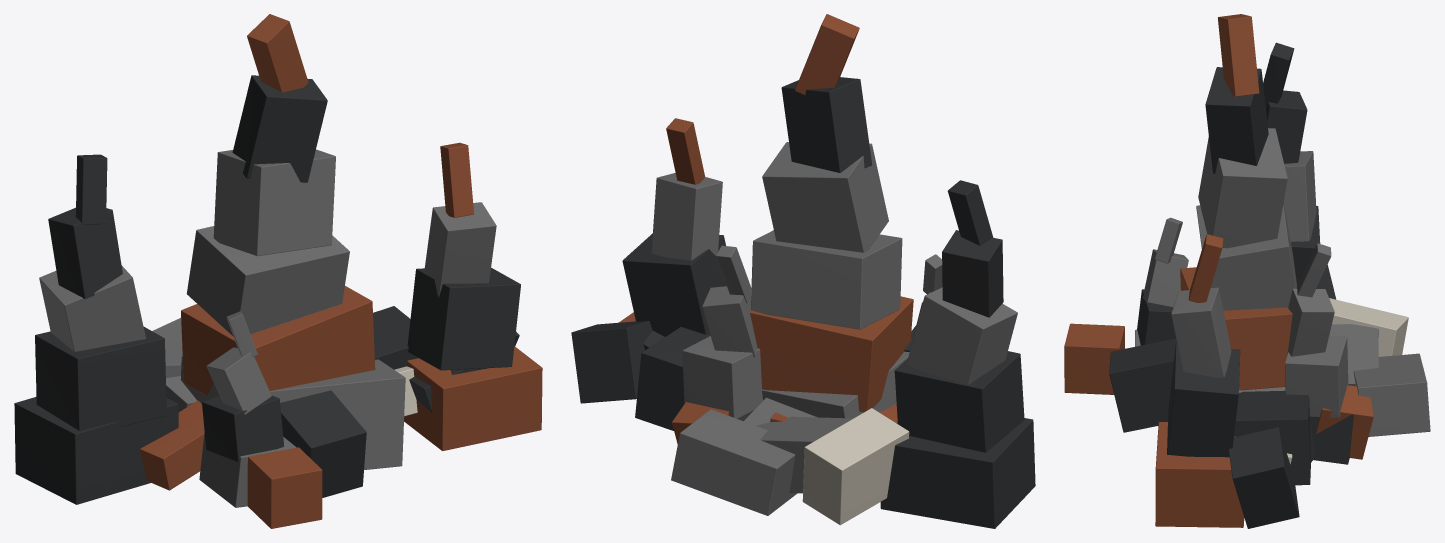
File: mountain.glb
The picture shows the model from 3 angles, left to right: view 1: azimuth 30°, elevation 25°; view 2: azimuth 150°, elevation 25°; view 3: azimuth 270°, elevation 25°; orthographic projection. The views are drawn at different scales.
Visible parts, largest first — view 1: mountain; view 2: mountain; view 3: mountain.
Part boxes in pixels (x1,y1,x2,y2): mountain: (14,14,542,528); mountain: (571,14,1035,528); mountain: (1064,14,1430,528).
Size of the model in its own units: 21.36 by 20.23 by 15.76.
